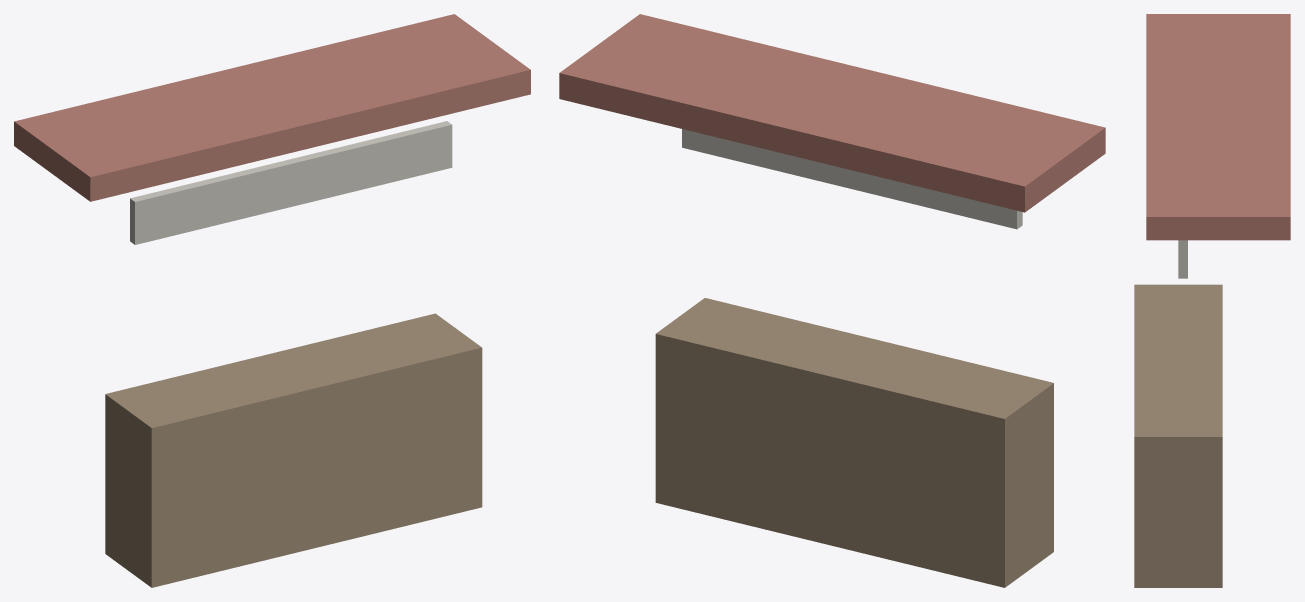
File: iz3_neighborhood_dükkan_ahşap.glb
3 renders of one model, left to right at view 1: azimuth 30°, elevation 25°; view 2: azimuth 150°, elevation 25°; view 3: azimuth 270°, elevation 25°, orthographic. The views are drawn at different scales.
Parts seen in each view (by area): view 1: counter, awning, sign; view 2: counter, awning, sign; view 3: awning, counter, sign.
Part boxes in pixels (left/top/right/bottom): counter: left=105, top=313, right=482, bottom=587; awning: left=14, top=14, right=530, bottom=201; sign: left=130, top=121, right=452, bottom=244; counter: left=655, top=298, right=1053, bottom=587; awning: left=559, top=14, right=1105, bottom=212; sign: left=682, top=129, right=1022, bottom=229; awning: left=1146, top=14, right=1290, bottom=240; counter: left=1134, top=284, right=1222, bottom=587; sign: left=1178, top=240, right=1187, bottom=278.
Size of the model in its own units: 3 by 2.73 by 0.975.
